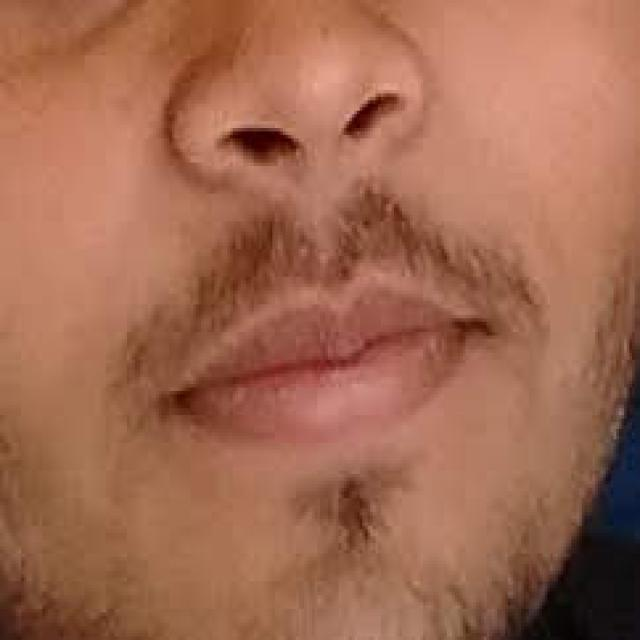normal_tongue: (160, 244, 543, 487)
